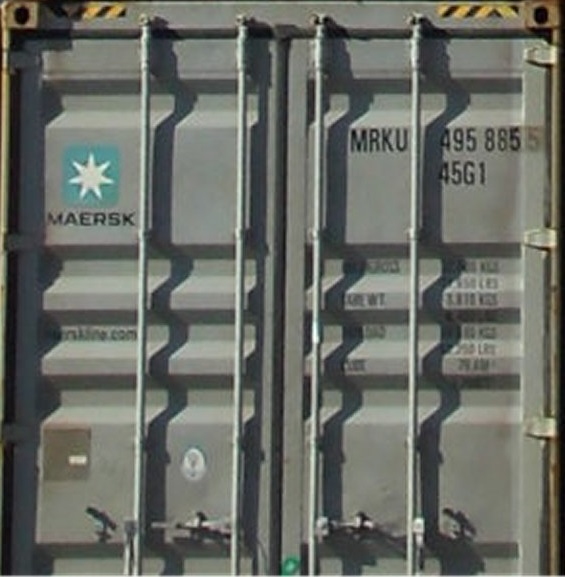container_door: (6, 6, 545, 574)
